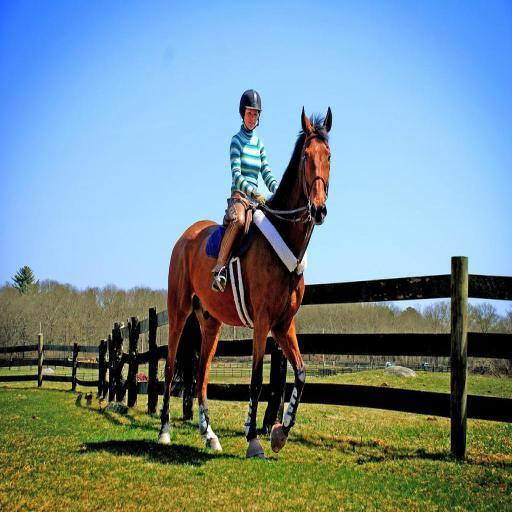horse: (158, 102, 334, 458)
